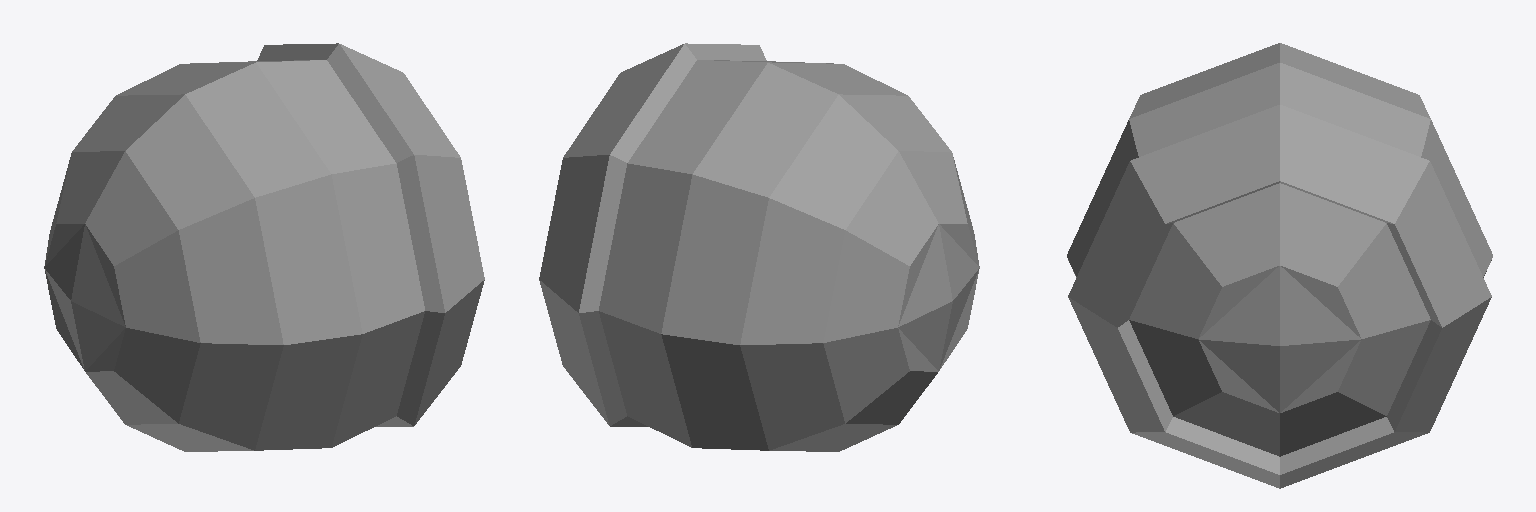
File: Oculus.obj
The picture shows the model from 3 angles: view 1: azimuth 30°, elevation 25°; view 2: azimuth 150°, elevation 25°; view 3: azimuth 270°, elevation 25°; orthographic projection.
Parts seen in each view (by area): view 1: Plane.010_Plane.012; view 2: Plane.010_Plane.012; view 3: Plane.010_Plane.012.
Boxes of the visible parts, <box> form: Plane.010_Plane.012: <box>44,43,484,451</box>; Plane.010_Plane.012: <box>539,43,979,451</box>; Plane.010_Plane.012: <box>1067,43,1492,488</box>.
Size of the model in its own units: 1.45 by 1.45 by 1.45.